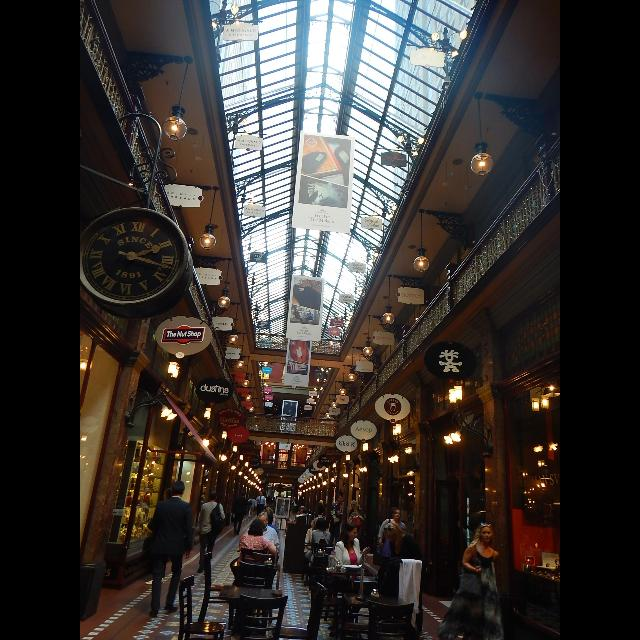head: (384, 522, 401, 540), (344, 522, 358, 542), (479, 524, 493, 542), (251, 519, 265, 535), (171, 482, 185, 498), (257, 512, 269, 528), (163, 489, 174, 501), (392, 508, 402, 520), (314, 518, 324, 528), (210, 492, 218, 501), (314, 518, 322, 526), (354, 505, 360, 513), (336, 495, 342, 503), (352, 499, 356, 503), (260, 492, 264, 496), (242, 492, 246, 496), (251, 496, 255, 499)
person: (140, 479, 196, 618), (382, 522, 428, 636), (326, 520, 372, 632), (234, 518, 280, 602), (144, 488, 182, 584), (238, 511, 282, 587), (374, 506, 410, 598), (195, 490, 227, 574), (303, 517, 333, 589), (301, 516, 329, 586), (344, 503, 366, 551), (328, 494, 344, 554), (231, 490, 251, 536), (346, 498, 360, 546), (256, 491, 266, 519), (247, 496, 257, 518)
